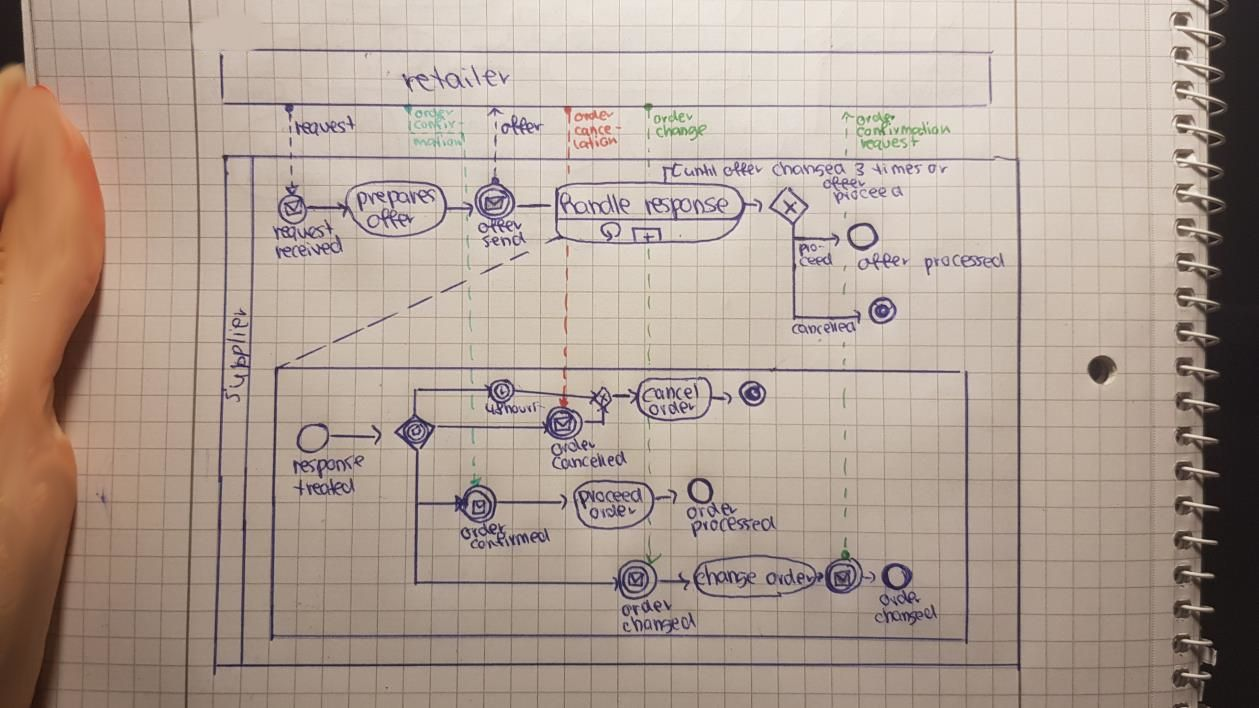3: (851, 160, 870, 176)
48hours: (484, 399, 539, 415)
cance-: (573, 127, 619, 137)
cancel: (641, 380, 699, 400)
cancelled: (789, 317, 858, 337), (559, 452, 619, 471)
ceed: (793, 256, 839, 268)
change: (693, 566, 757, 586), (653, 126, 708, 138)
changed: (623, 613, 699, 631), (778, 161, 841, 178), (875, 607, 934, 625)
confir-: (410, 122, 462, 130)
confirmation: (854, 124, 956, 135)
confirmed: (466, 530, 547, 551)
handle: (553, 192, 640, 217)
lation: (572, 136, 619, 152)
mation: (409, 135, 462, 147)
offer: (357, 207, 422, 233), (709, 162, 778, 179), (477, 214, 520, 237), (853, 255, 911, 271), (497, 117, 542, 136), (821, 176, 865, 188)
or: (912, 157, 963, 182)
order: (616, 596, 680, 619), (642, 399, 699, 421), (766, 566, 822, 588), (542, 436, 603, 456), (880, 590, 935, 608), (684, 501, 739, 519), (458, 520, 507, 539), (412, 102, 457, 119), (650, 111, 695, 126), (849, 109, 896, 123), (572, 109, 613, 125), (586, 507, 639, 518)
prepares: (356, 184, 436, 208)
pro-: (798, 239, 833, 255)
proceed: (569, 486, 648, 509), (833, 189, 905, 199)
processed: (689, 515, 775, 533), (922, 254, 1009, 268)
received: (271, 240, 346, 258)
request: (290, 115, 357, 138), (855, 135, 922, 153), (271, 221, 331, 239)
response: (641, 191, 732, 220), (289, 456, 367, 477)
retailer: (398, 63, 511, 98)
send: (475, 233, 522, 250)
supplier: (224, 307, 245, 404)
times: (882, 162, 911, 176)
treated: (295, 480, 355, 497)
until: (683, 158, 715, 181)
